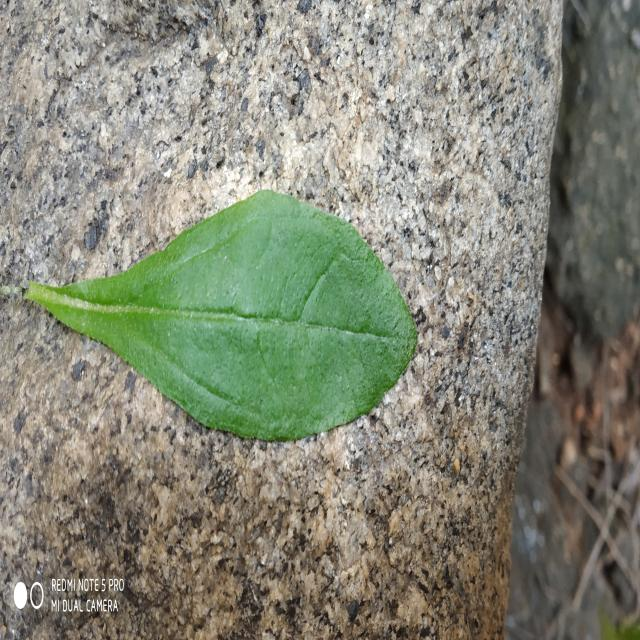bringaraja: (26, 190, 416, 440)
